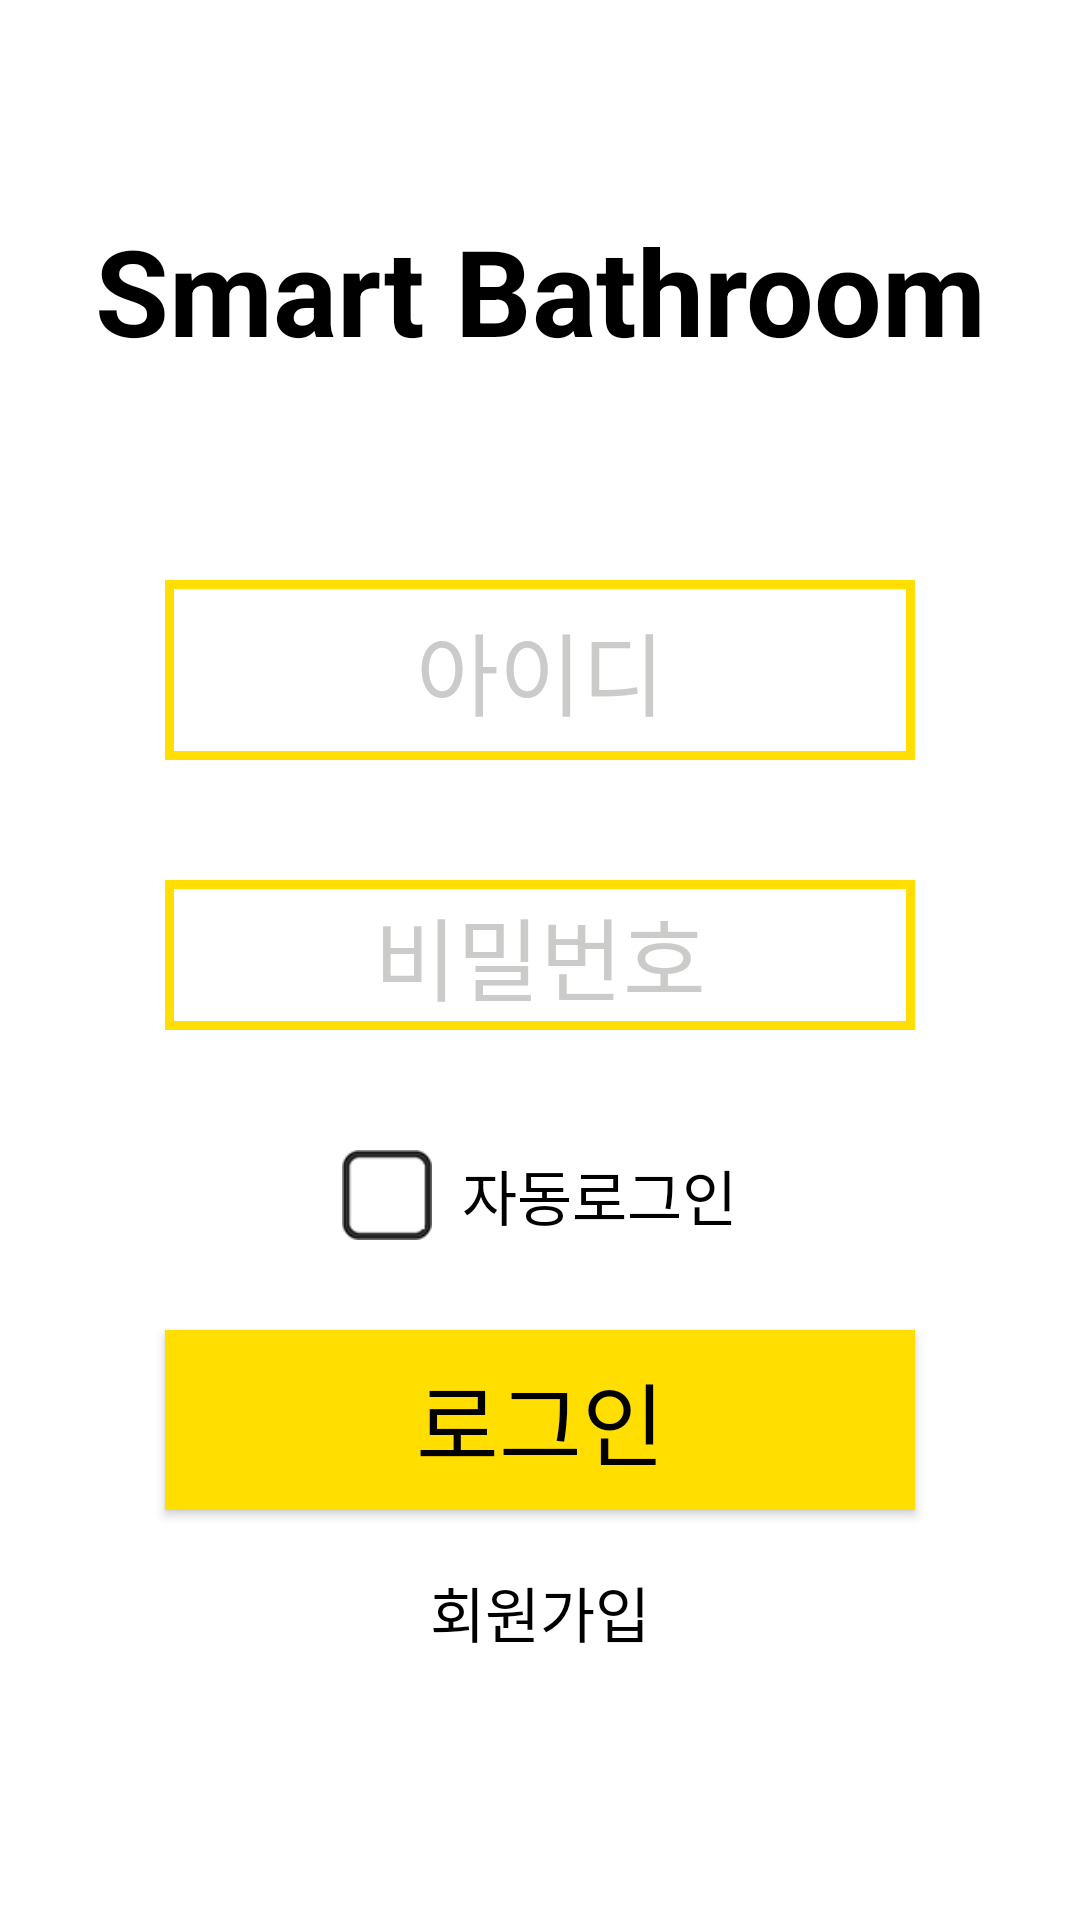

Point at icon controls on the screen. Image size 1080w x 1920h, points as point (x, y).
checkbox: point (387, 1195)
